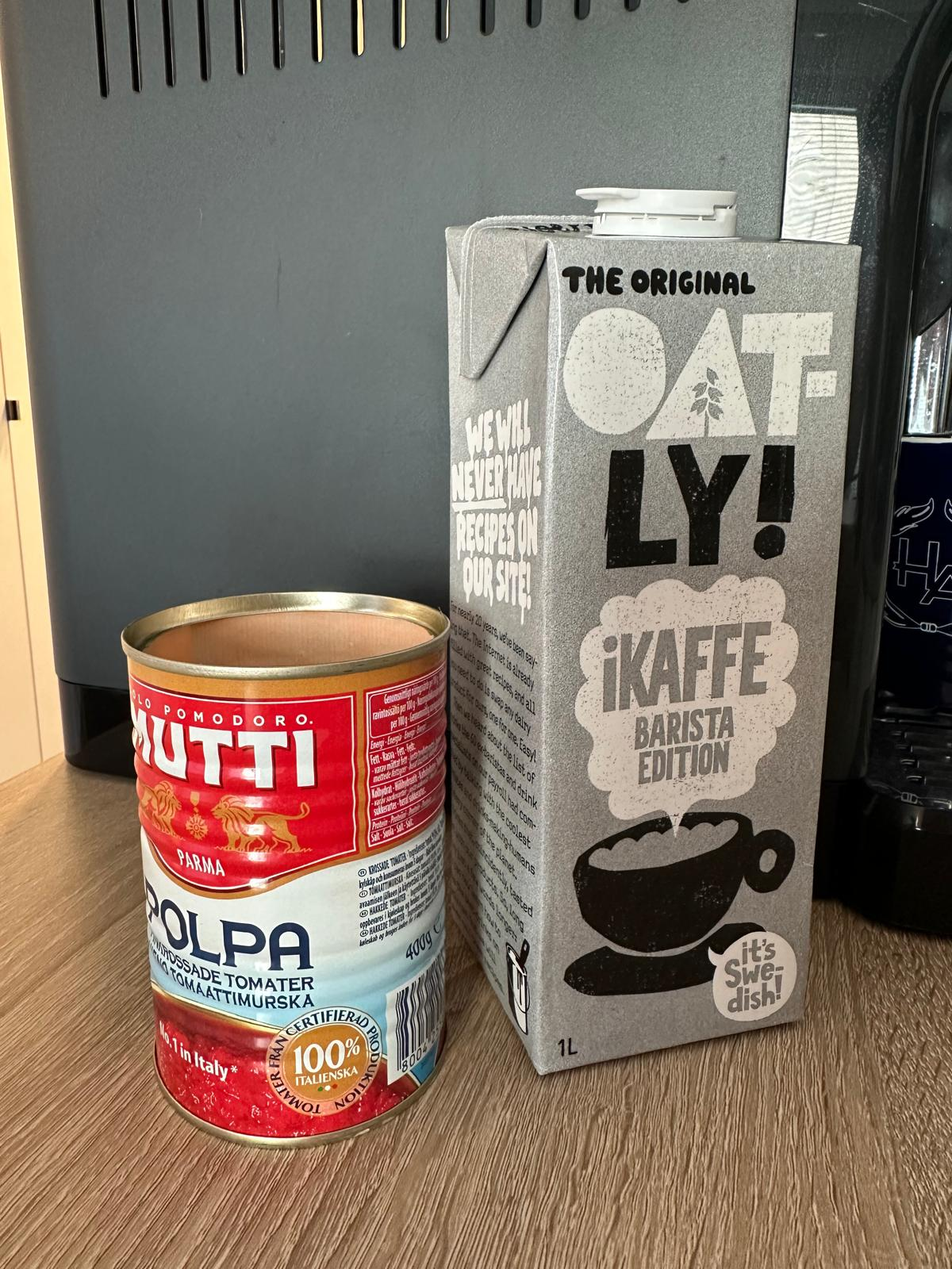Dryckeskartong: (444, 187, 863, 1078)
Konservburk: (120, 590, 448, 1151)
